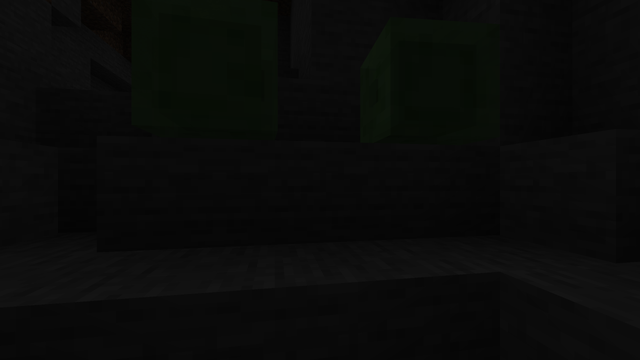slimes: (124, 0, 276, 144), (356, 7, 503, 147)
